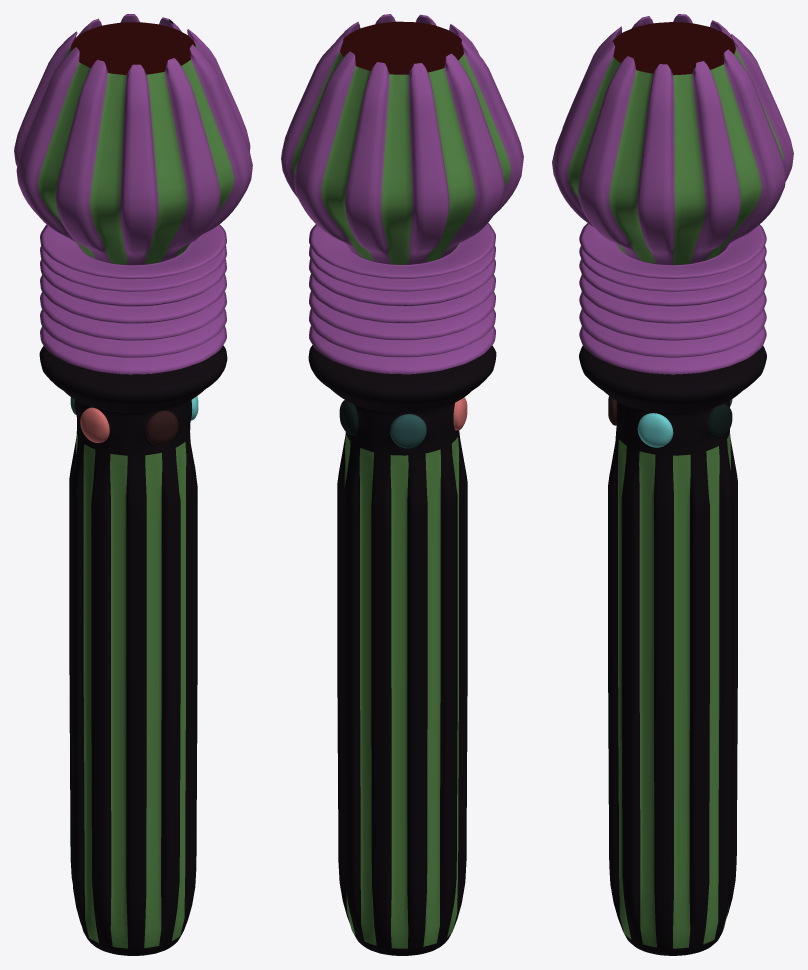
The model's file is Flashligh_colorid_2.fbx.
The picture shows the model from 3 angles, left to right: view 1: azimuth 30°, elevation 25°; view 2: azimuth 150°, elevation 25°; view 3: azimuth 270°, elevation 25°; orthographic projection.
Visible parts, largest first — view 1: flashlight; view 2: flashlight; view 3: flashlight.
Part boxes in pixels (x1,y1,x2,y2): flashlight: (14,14,252,955); flashlight: (281,14,523,955); flashlight: (552,14,793,955).
Bounding box in the file's own units: 3.16 × 12.96 × 3.16.
